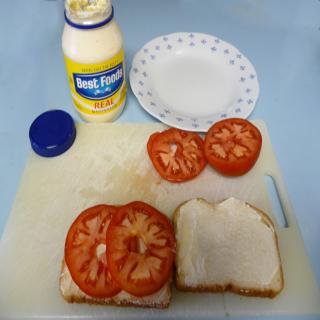tomato: (105, 199, 179, 296), (203, 116, 261, 176), (146, 127, 209, 181)
